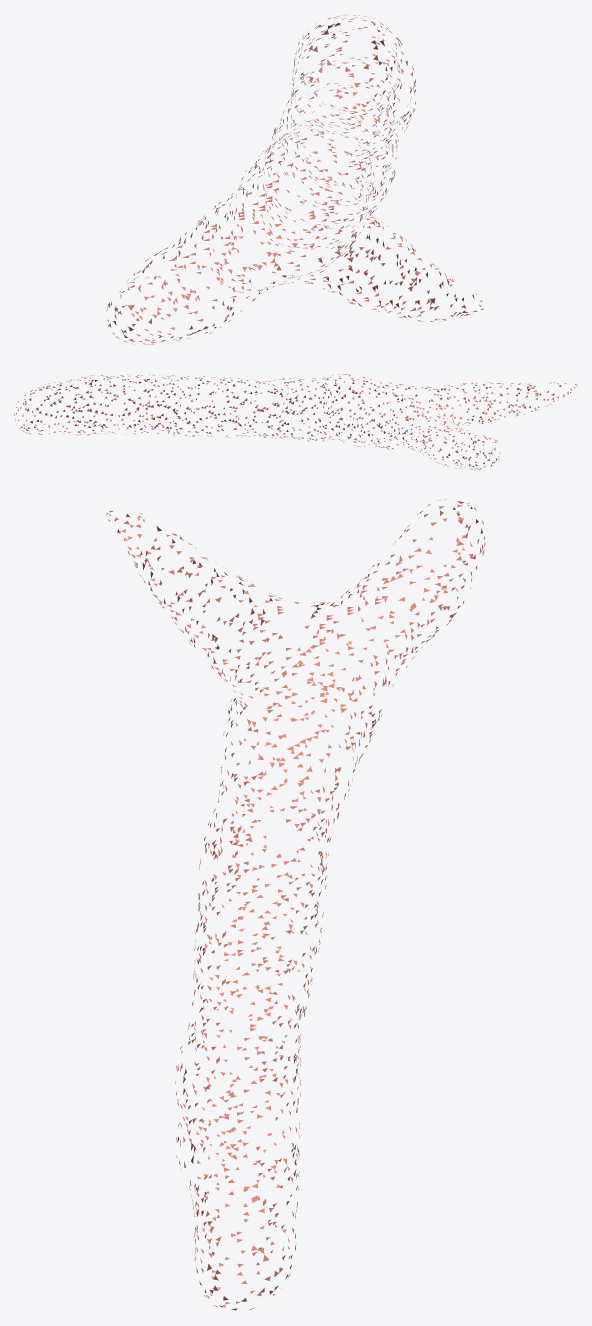
The model's file is morph_002.glb.
3 renders of one model, top to bottom at view 1: azimuth 90°, elevation 25°; view 2: azimuth 150°, elevation 25°; view 3: azimuth 270°, elevation 25°, orthographic. The views are drawn at different scales.
Bounding box in the file's own units: 133 × 37.07 × 41.
